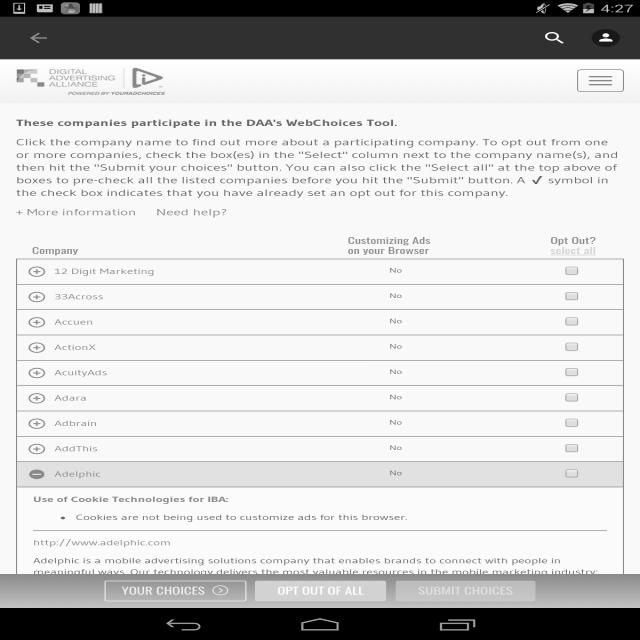Button: (105, 581, 248, 601), (396, 581, 536, 601), (255, 581, 387, 601), (577, 69, 624, 92)
CheckBox: (566, 292, 580, 301), (566, 317, 580, 326), (566, 368, 580, 377), (566, 393, 580, 402), (566, 444, 580, 453), (566, 469, 580, 478), (566, 520, 580, 529), (566, 582, 580, 591), (566, 607, 580, 616), (565, 632, 580, 640), (566, 267, 580, 275), (566, 343, 580, 351), (566, 419, 580, 427), (566, 495, 580, 503), (566, 557, 580, 565)
ImageButton: (9, 17, 68, 59)
TextView: (580, 22, 632, 54), (529, 22, 580, 54)
